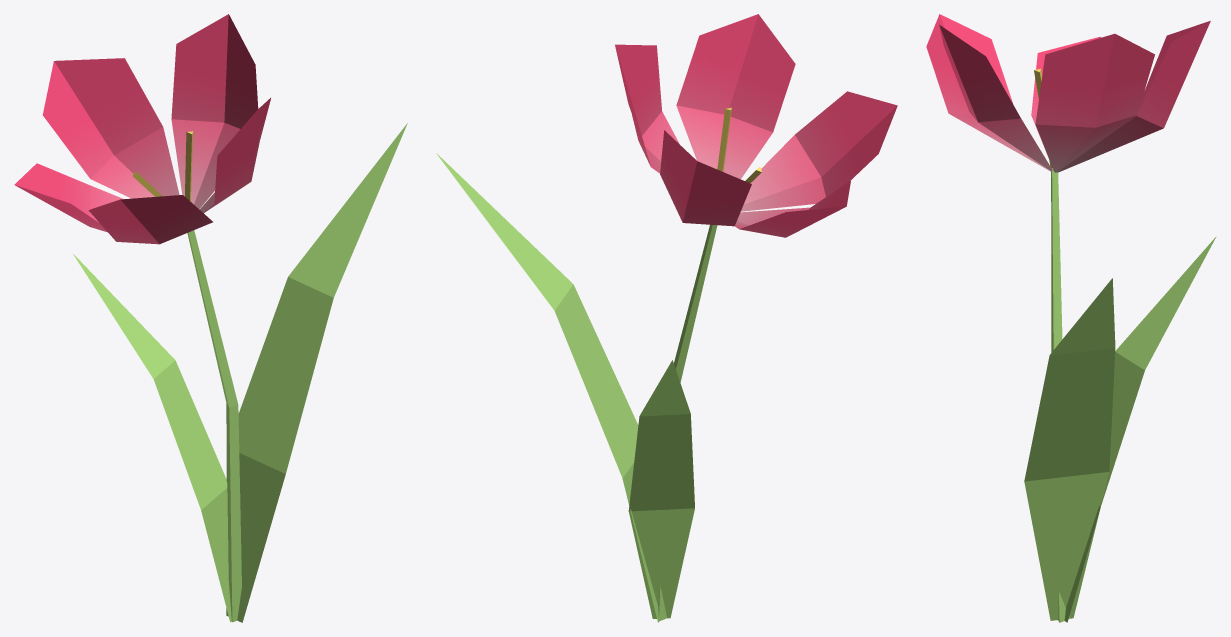
File: Flower_f_TwoS_10.fbx
3 renders of one model, left to right at view 1: azimuth 30°, elevation 25°; view 2: azimuth 150°, elevation 25°; view 3: azimuth 270°, elevation 25°, orthographic. The views are drawn at different scales.
Visible parts, largest first — view 1: Flower_f_TwoS_10; view 2: Flower_f_TwoS_10; view 3: Flower_f_TwoS_10.
Part boxes in pixels (bbox=[...]): Flower_f_TwoS_10: bbox=[14, 14, 407, 622]; Flower_f_TwoS_10: bbox=[436, 14, 897, 622]; Flower_f_TwoS_10: bbox=[926, 14, 1216, 622].
Size of the model in its own units: 38.9 by 54.07 by 23.87.
